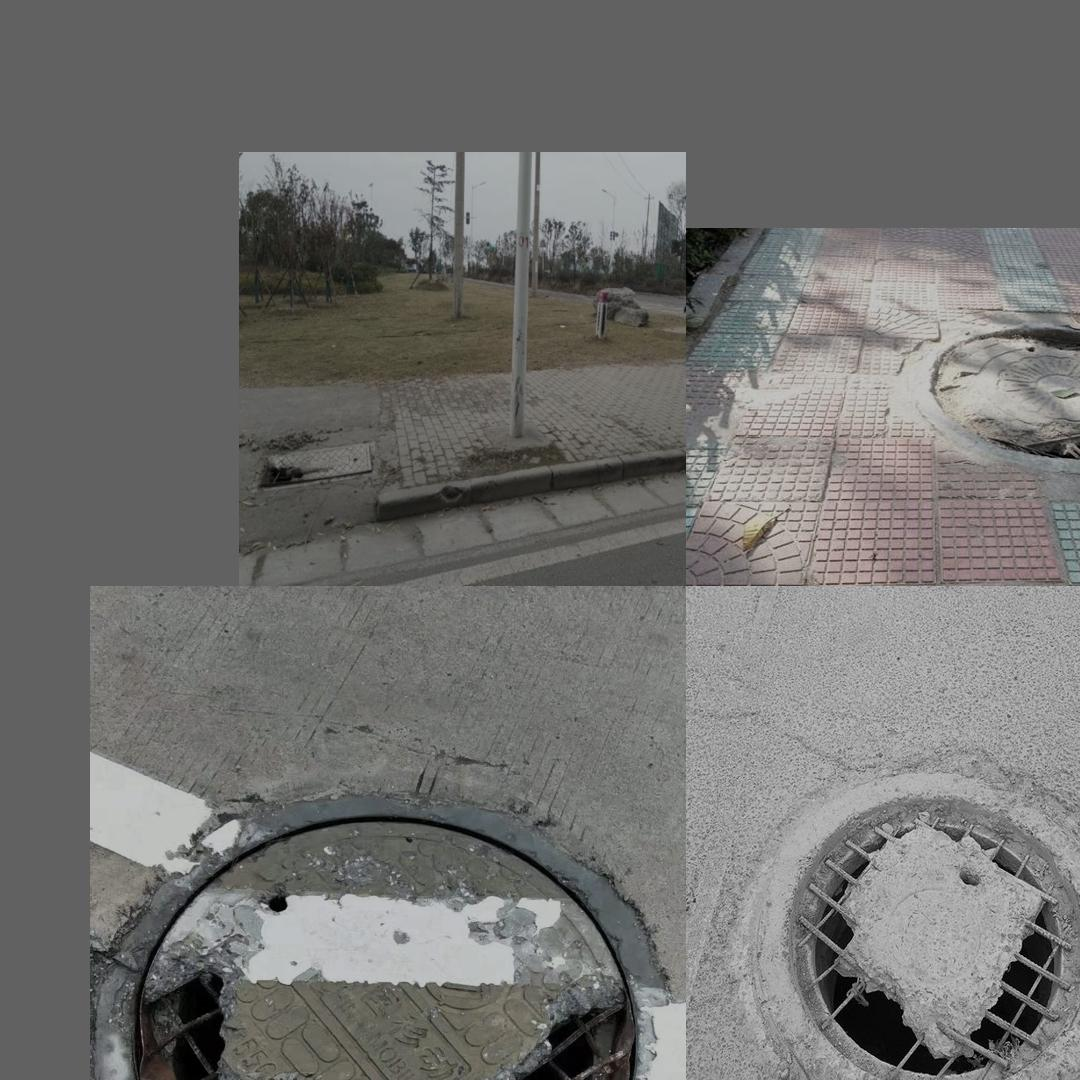broke: (95, 795, 673, 1080), (749, 748, 1080, 1080), (904, 316, 1080, 473), (253, 446, 374, 480)
